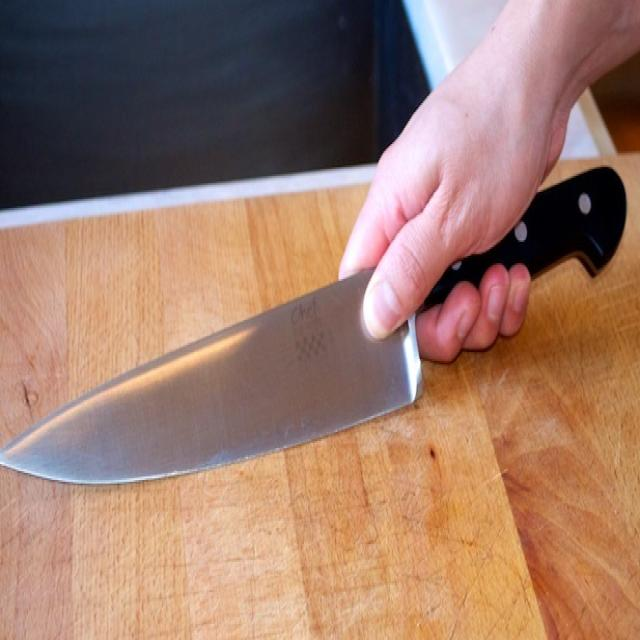knife: (2, 166, 630, 496)
